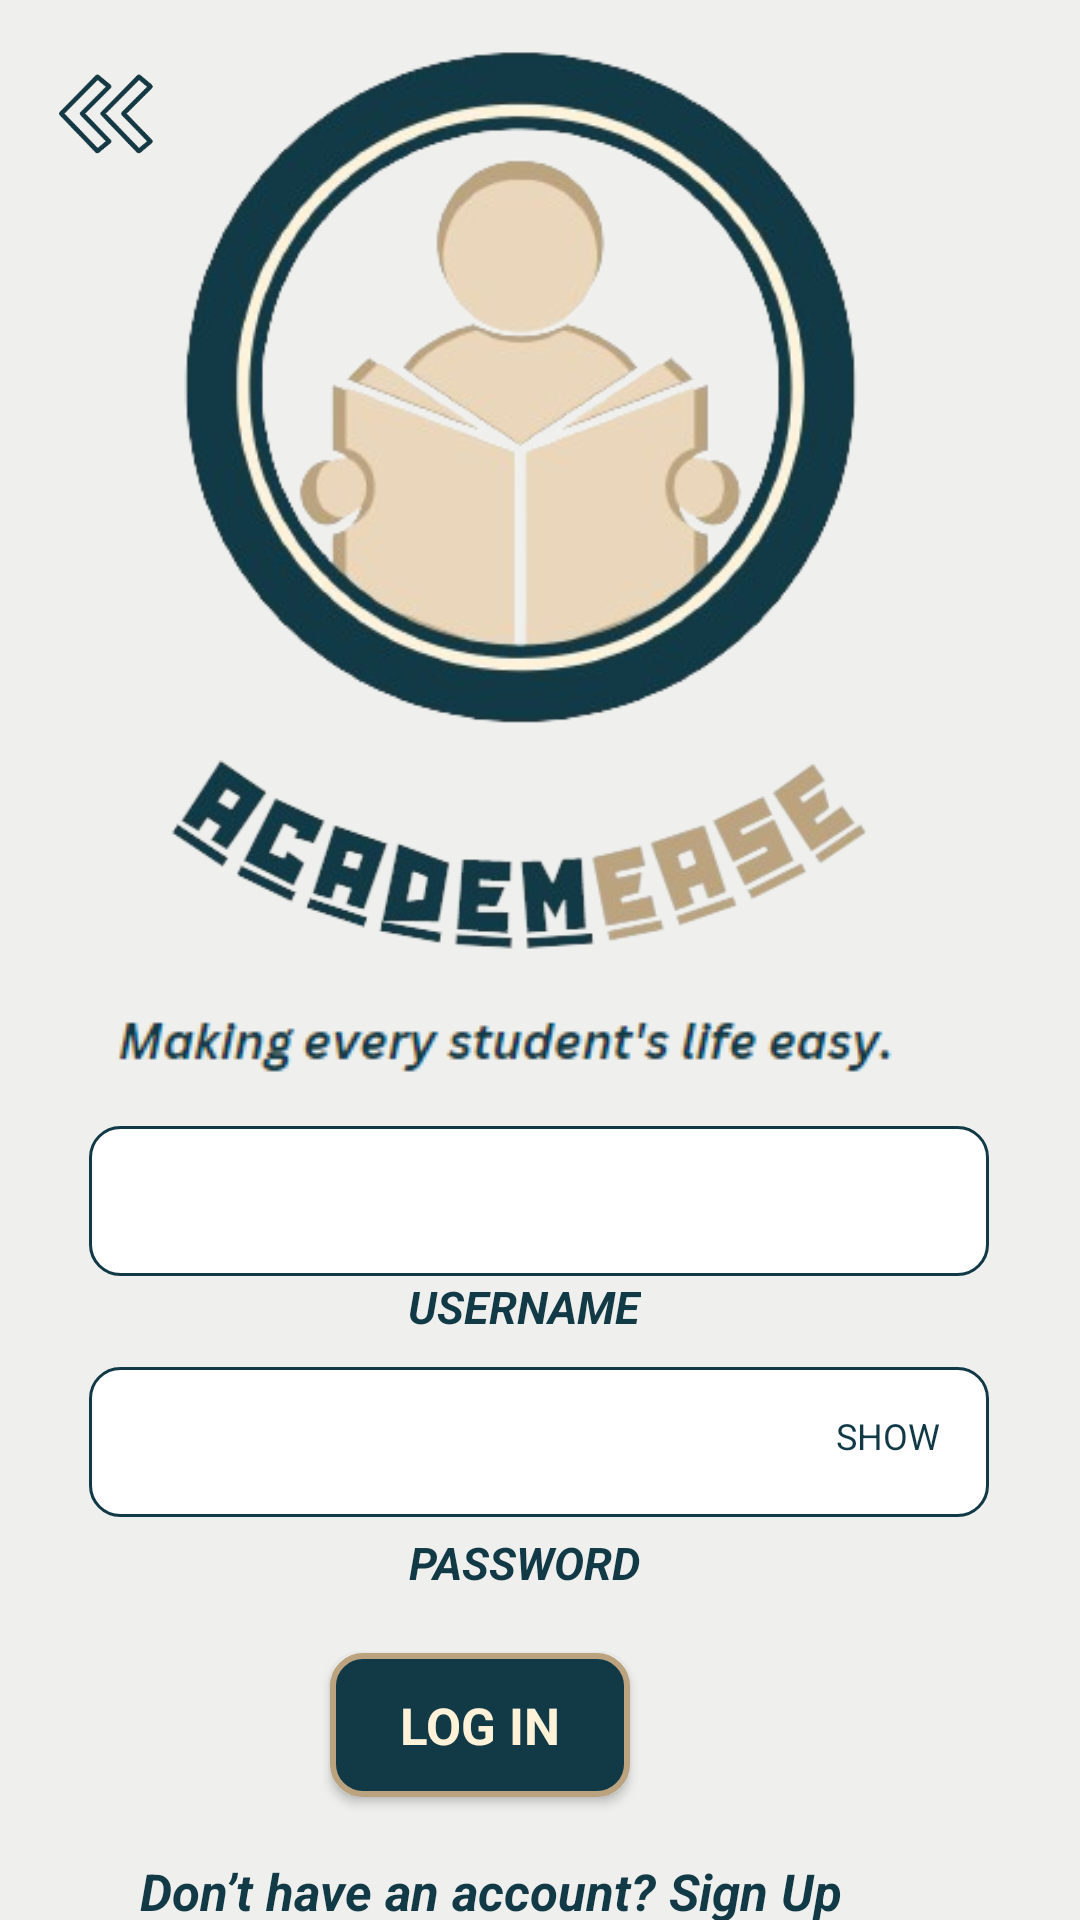

Where icons sit on this 1080px×1920px app screen, as rect(x1, y1, x2, y2):
backbutton: rect(59, 74, 153, 154)
